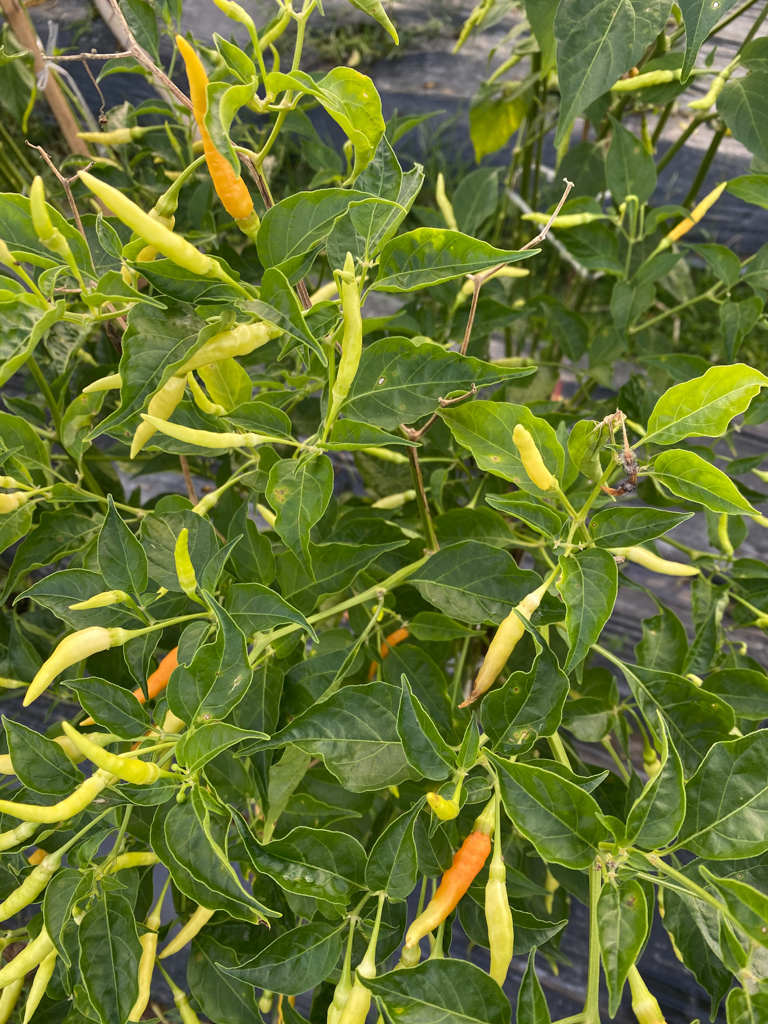frog-eye leafspot: (371, 368, 392, 394), (509, 723, 533, 744), (271, 484, 290, 505), (622, 893, 641, 913), (392, 398, 412, 416), (488, 450, 506, 465), (509, 683, 522, 696), (756, 922, 767, 937)
